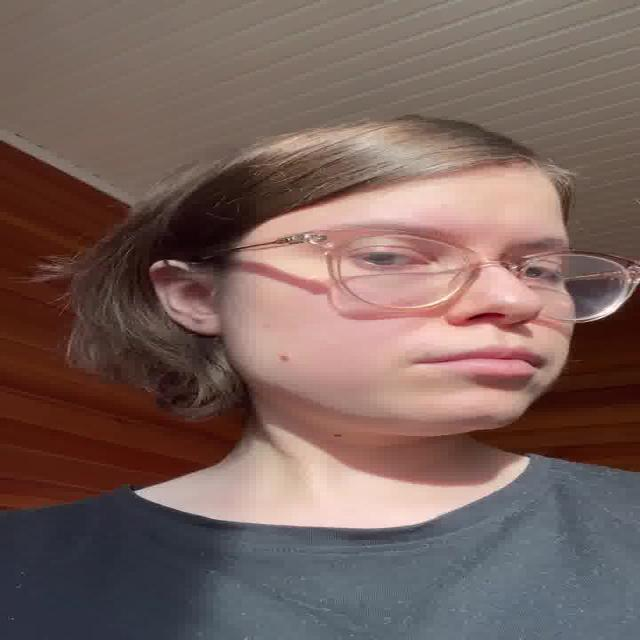earlobe: (185, 311, 221, 336)
eye: (344, 245, 438, 272), (515, 258, 562, 283)
nose: (455, 317, 537, 343)
wholeear: (147, 260, 221, 336)
